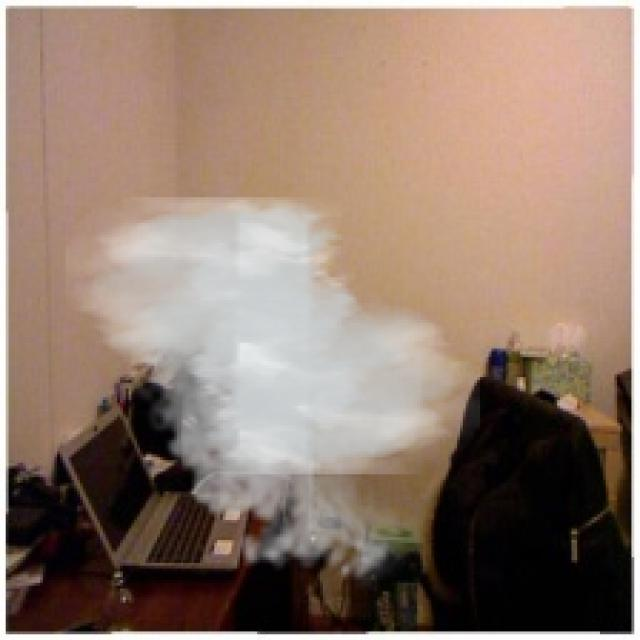smoke: (66, 197, 480, 592)
